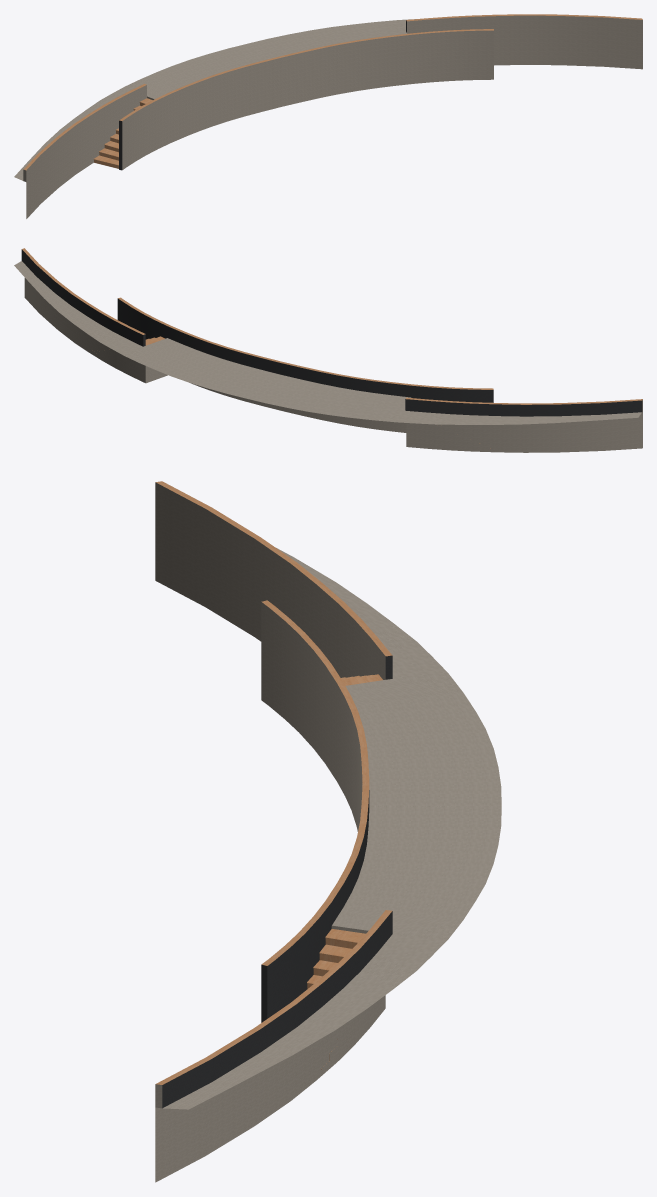
The model's file is Auditorium02_Staircase_Wall.FBX.
3 views of the same model, one above another, from view 1: azimuth 30°, elevation 25°; view 2: azimuth 150°, elevation 25°; view 3: azimuth 270°, elevation 25° (orthographic). The views are drawn at different scales.
Visible parts, largest first — view 1: Auditorium02_Staircase_Wall; view 2: Auditorium02_Staircase_Wall; view 3: Auditorium02_Staircase_Wall.
Boxes of the visible parts, x1,y1,x2,y2 form: Auditorium02_Staircase_Wall: [14, 14, 642, 218]; Auditorium02_Staircase_Wall: [14, 248, 642, 452]; Auditorium02_Staircase_Wall: [155, 481, 501, 1182].
Size of the model in its own units: 38662 by 2925 by 9308.
4 materials, 4 textured.
